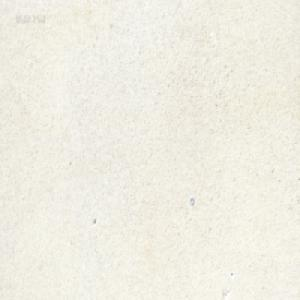Washer: (189, 196, 194, 206)
